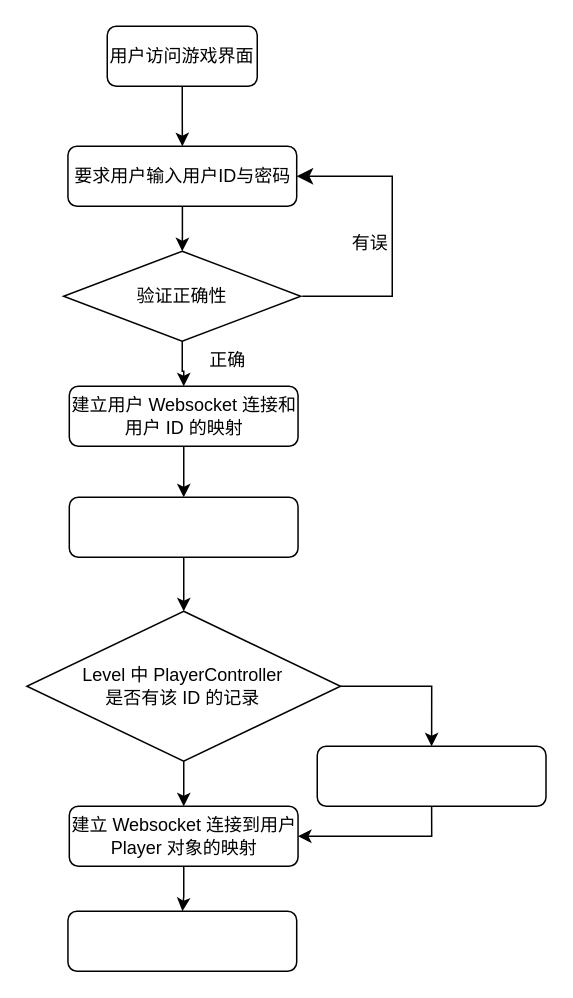
Some shapes in this 573 by 998 pixel diagram are drawn without their labels. Each missing label, with the centre of its shape:
"player.online = true 玩家可继续操作对象" goes at [181,940].
"新建用户 Player 实例" goes at [431,775].
"用户选择当前正在运行的 Level 并进入" goes at [183,526].
